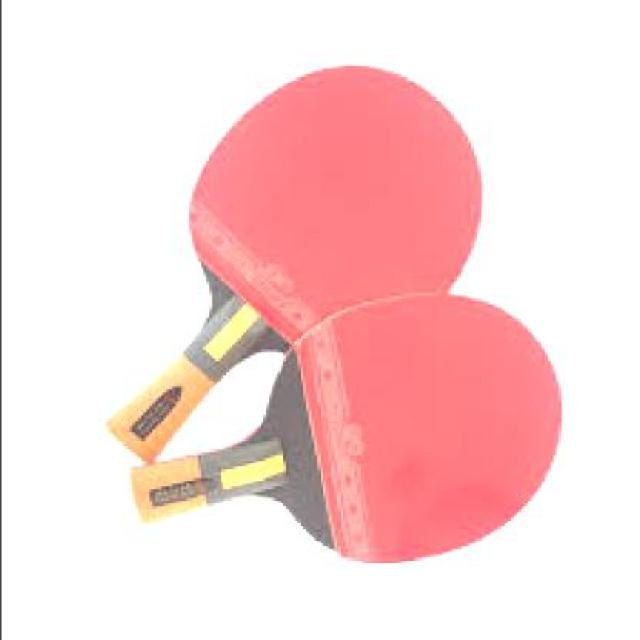table_tennis_racket: (177, 61, 488, 362), (256, 289, 566, 571)
